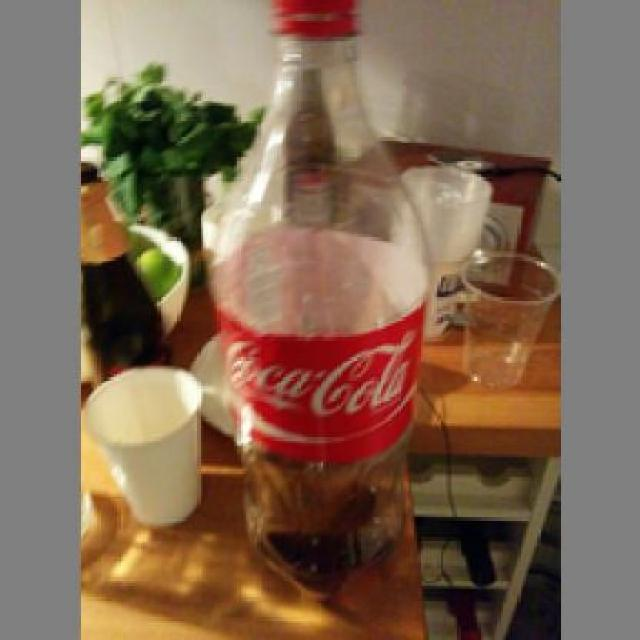Soda: (202, 0, 432, 597)
